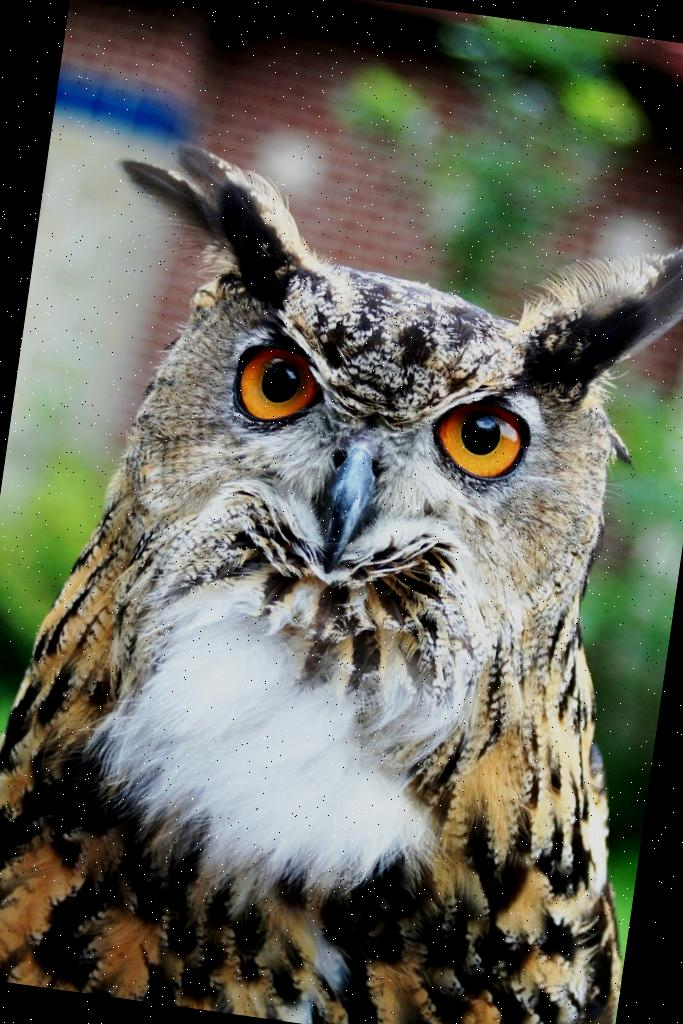Owl: (0, 121, 683, 1024)
